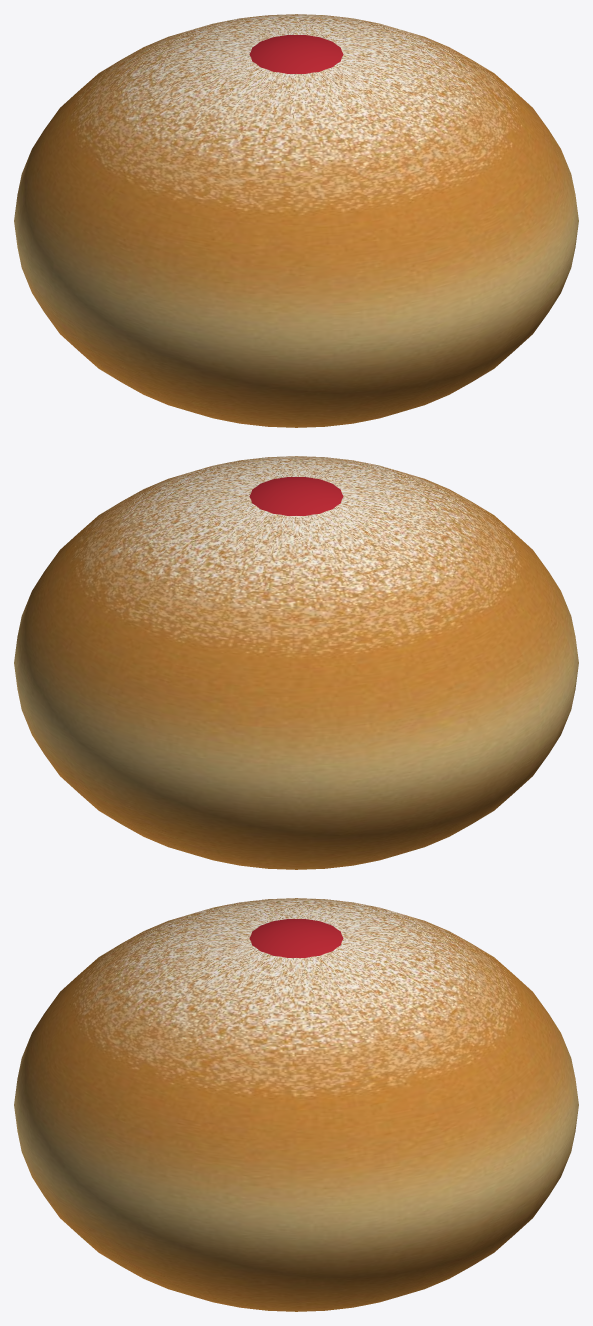
Rendered from sufganiya_bite0.glb.
3 renders of one model, top to bottom at view 1: azimuth 30°, elevation 25°; view 2: azimuth 150°, elevation 25°; view 3: azimuth 270°, elevation 25°, orthographic.
Visible parts, largest first — view 1: Sufganiya_Bite0, Sufganiya_Bite0_JamDot; view 2: Sufganiya_Bite0, Sufganiya_Bite0_JamDot; view 3: Sufganiya_Bite0, Sufganiya_Bite0_JamDot.
Part boxes in pixels (x1,y1,x2,y2): Sufganiya_Bite0: (14,14,578,427); Sufganiya_Bite0_JamDot: (249,35,343,73); Sufganiya_Bite0: (14,456,578,869); Sufganiya_Bite0_JamDot: (249,477,343,515); Sufganiya_Bite0: (14,898,578,1311); Sufganiya_Bite0_JamDot: (249,919,343,957).
Size of the model in its own units: 0.088 by 0.059 by 0.088.
2 materials, 1 textured.
